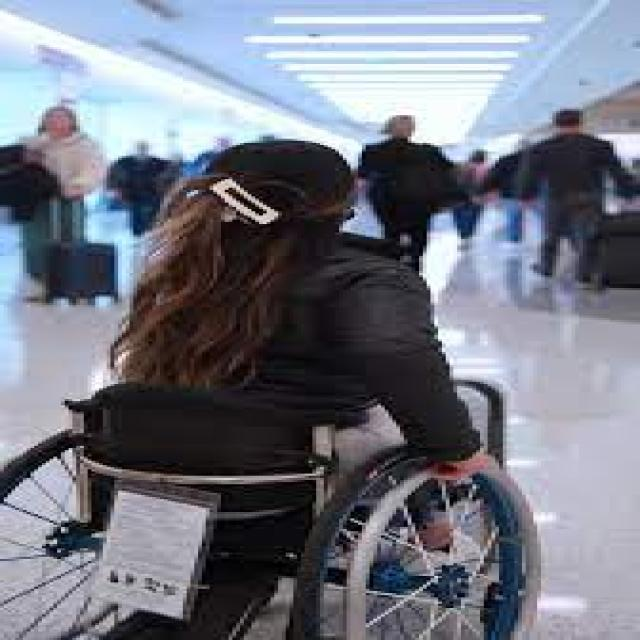wheelchairs: (0, 335, 594, 633)
